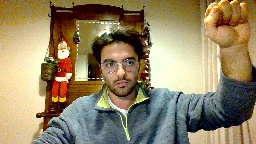Pugno: (201, 0, 252, 49)
